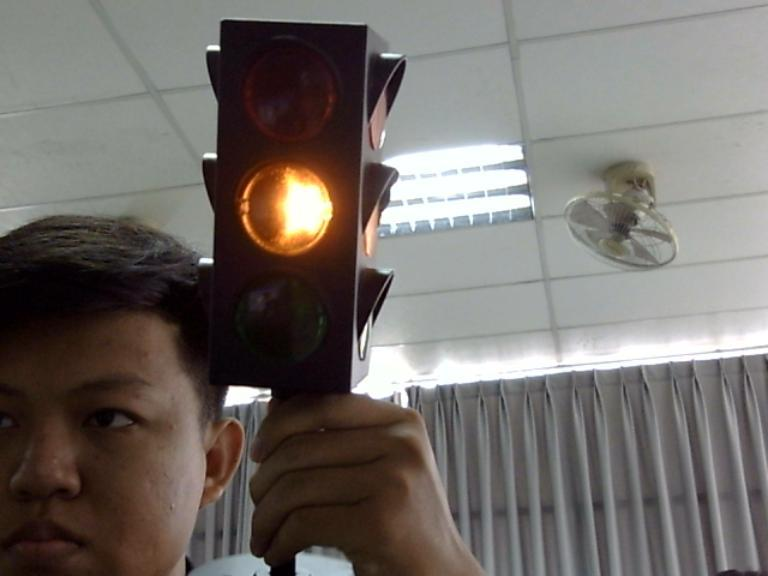yellow: (225, 146, 337, 264)
